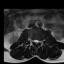CCS_normal: (35, 38, 37, 46)
LFS_normal: (39, 38, 41, 45)
LLS_normal: (37, 38, 39, 45)
RFS_normal: (31, 37, 33, 44)
RLS_normal: (33, 38, 35, 44)
